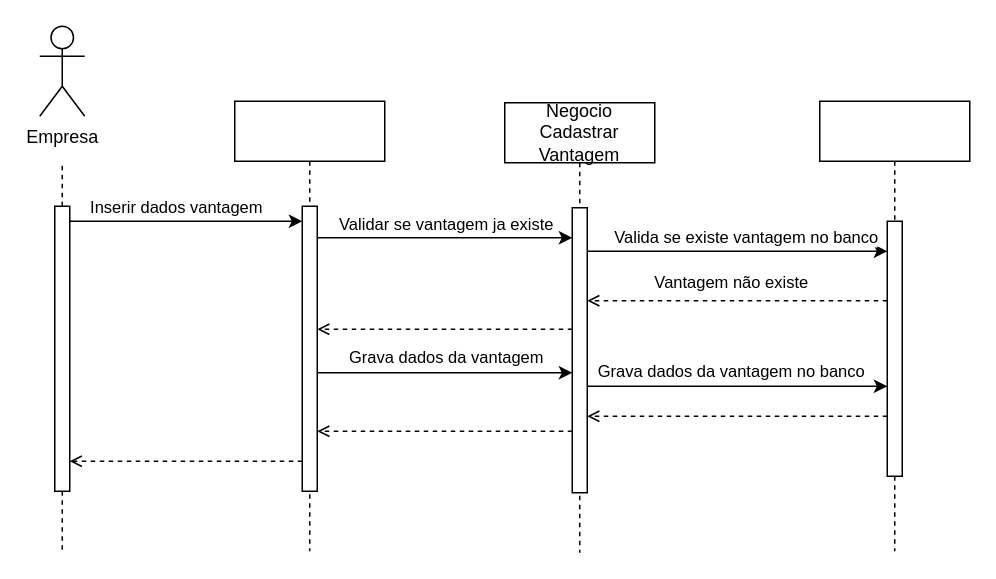
The diagram is 996 pixels wide and 579 high, and some of its shapes have lost their labels. The box of each missing label's shape, as (x1, y1, x2, y2) in pixels:
Cadastrar Vantagem: (233, 100, 385, 551)
Vantagens: (818, 100, 970, 551)
